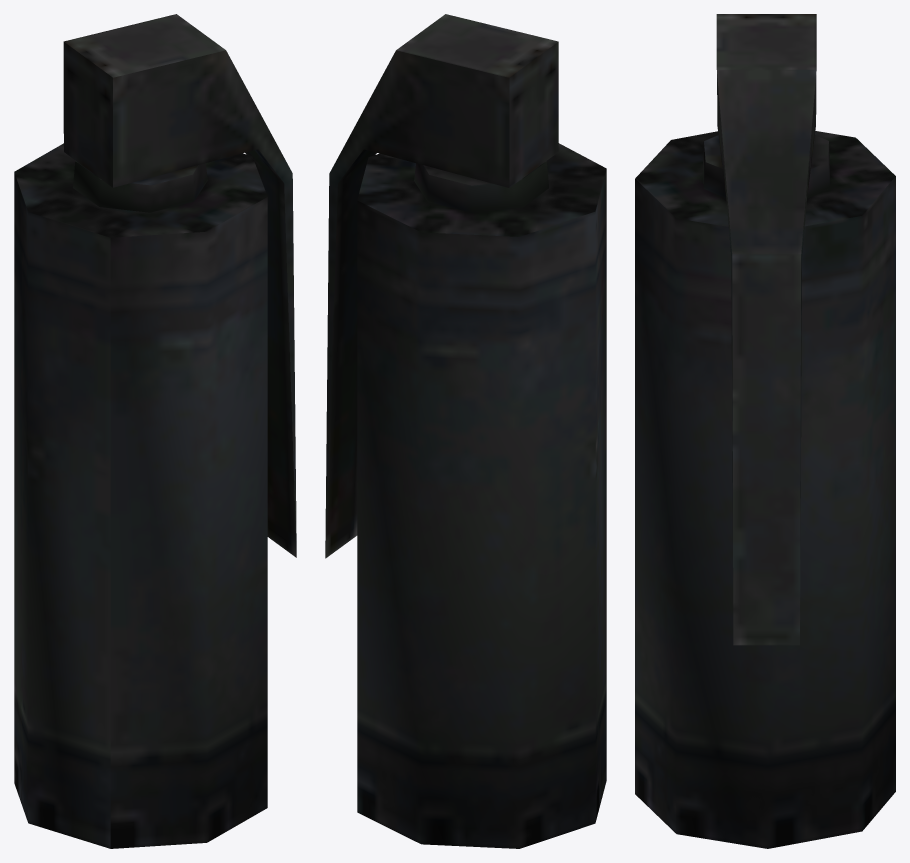
The model's file is Pickup_WeaponYwd01.glb.
3 renders of one model, left to right at view 1: azimuth 30°, elevation 25°; view 2: azimuth 150°, elevation 25°; view 3: azimuth 270°, elevation 25°, orthographic.
Parts seen in each view (by area): view 1: pk_weapon_ywd01; view 2: pk_weapon_ywd01; view 3: pk_weapon_ywd01.
Boxes of the visible parts, box(x1,y1,x2,y2) form: pk_weapon_ywd01: box(14, 14, 296, 848); pk_weapon_ywd01: box(325, 14, 606, 848); pk_weapon_ywd01: box(635, 14, 895, 848).
Size of the model in its own units: 0.1196 by 0.3387 by 0.1061.
1 material, 1 textured.
